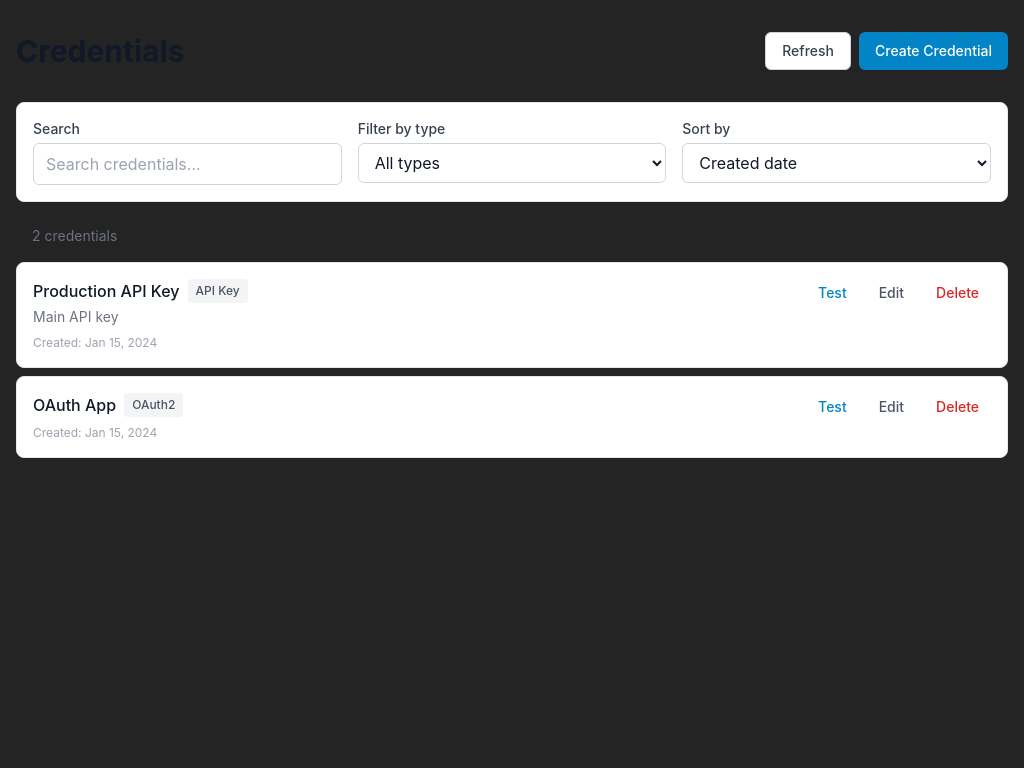
Scenario: CredentialManager › cancels delete when cancel is clicked
Click the button "Delete" in the row of "Production API Key": (958, 293) x1=924 y1=279 x2=991 y2=307
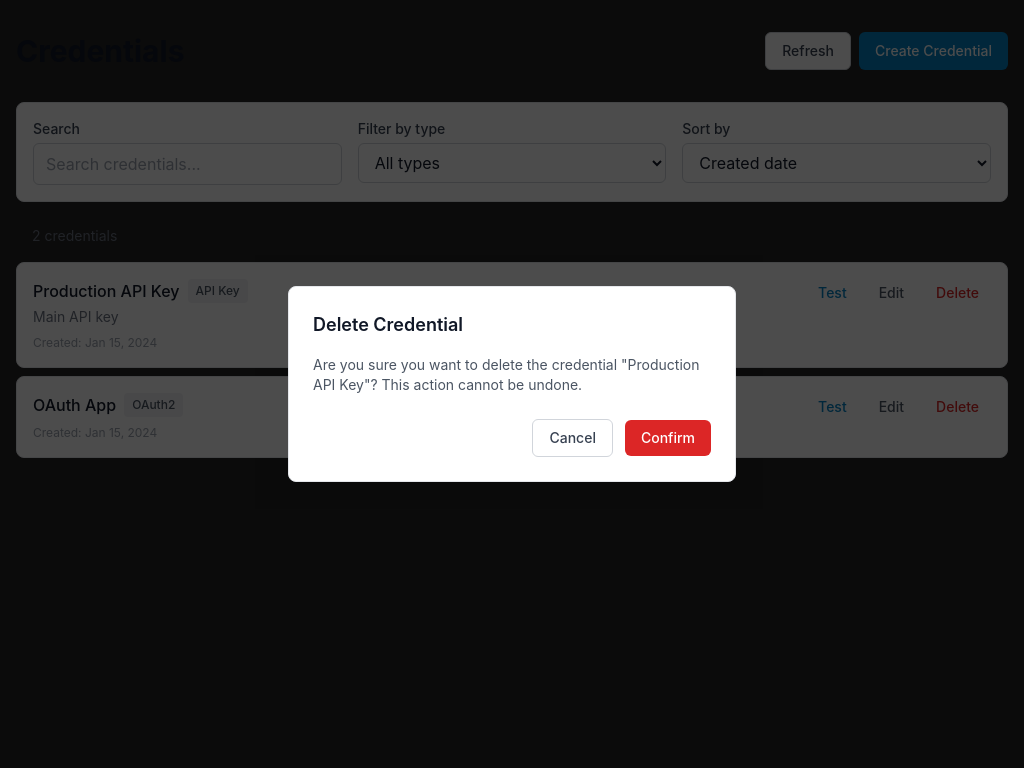
Click the button "Cancel": (573, 438) x1=532 y1=419 x2=613 y2=457
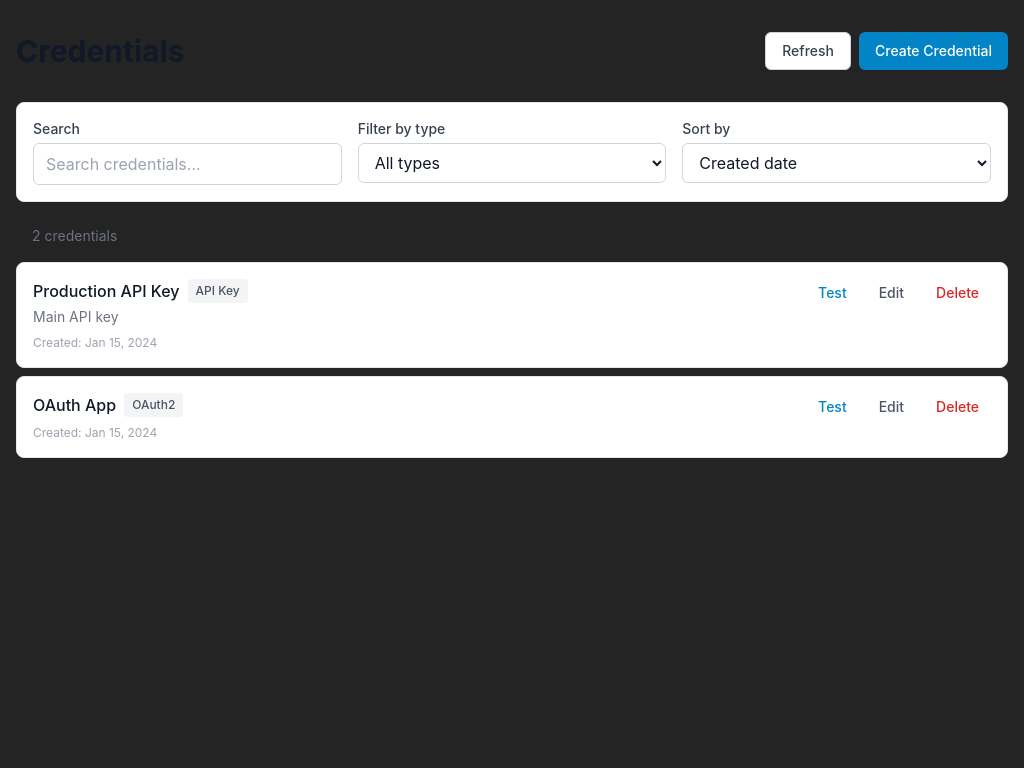
Result: the text "Are you sure you want to delete" is gone
